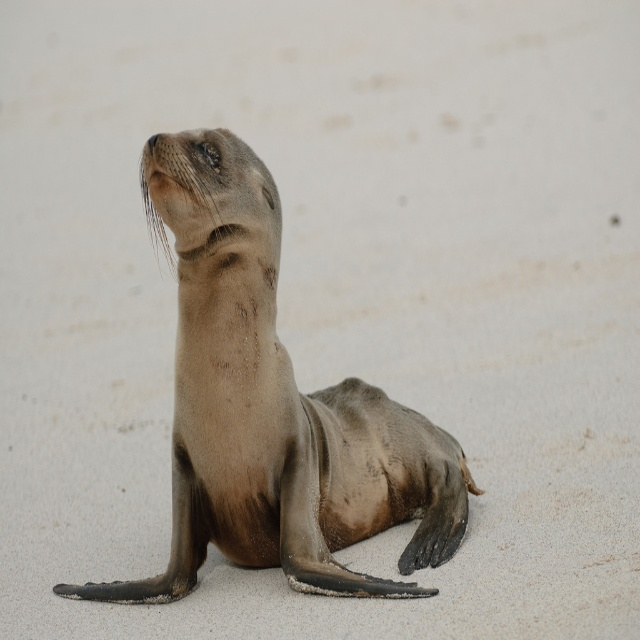Sea lion: (53, 127, 485, 604)
